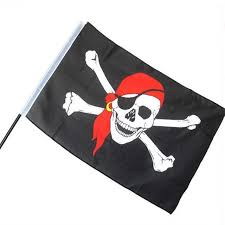Jolly Roger Flag: (26, 16, 224, 219)
